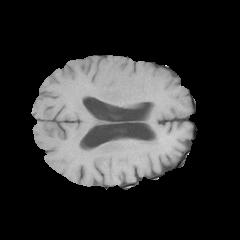glioma: (80, 135, 164, 167)
